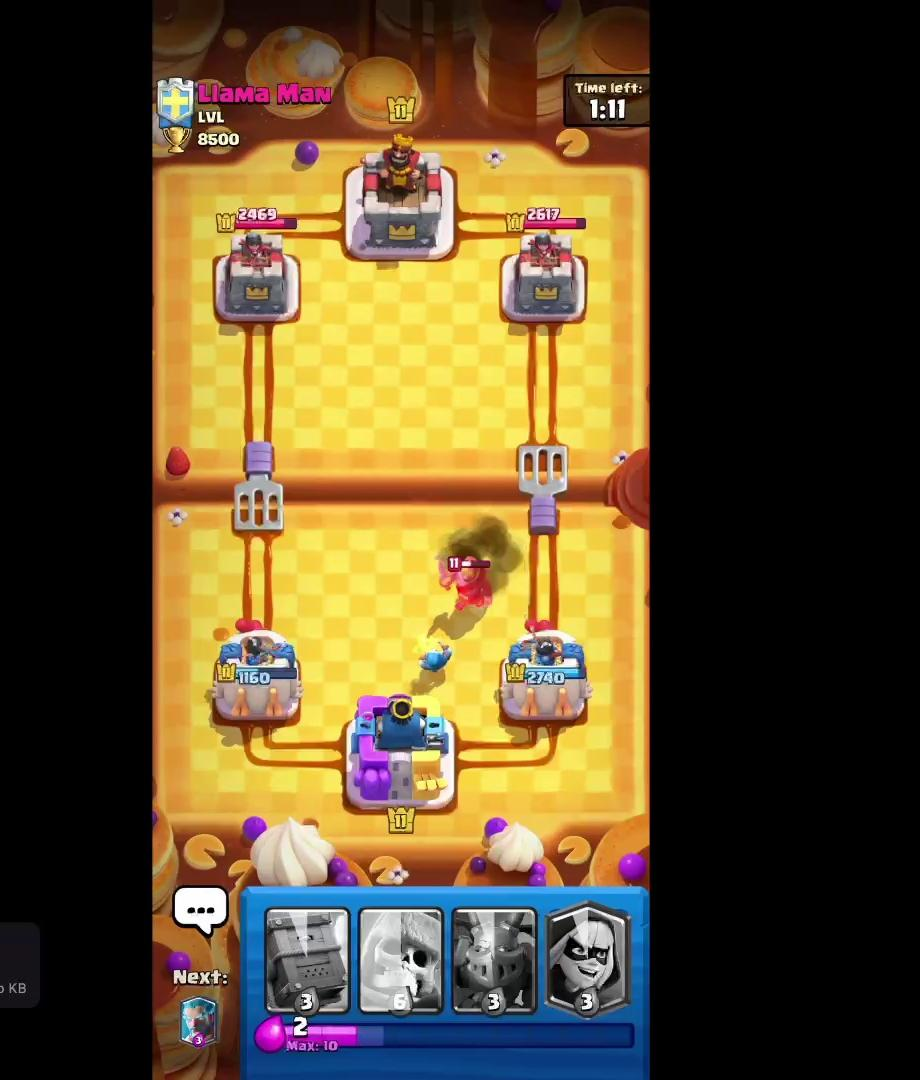Knight: (437, 548, 497, 619)
